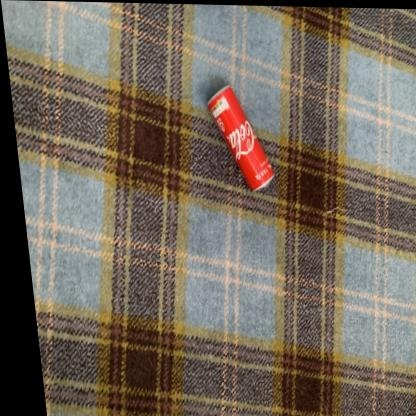trash: (208, 85, 274, 189)
